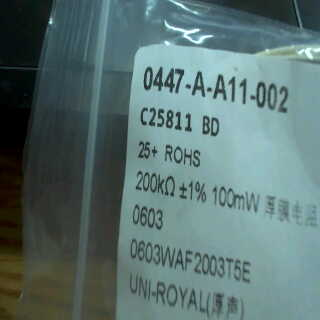200kR: (132, 171, 177, 197)
